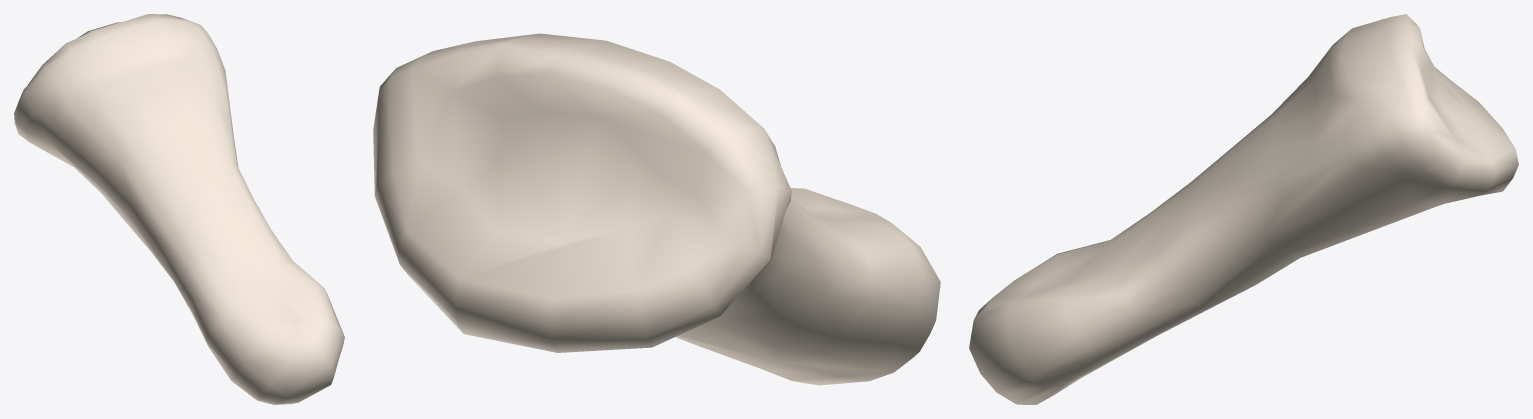
Rendered from left_digit_3_distal.glb.
The picture shows the model from 3 angles, left to right: view 1: azimuth 30°, elevation 25°; view 2: azimuth 150°, elevation 25°; view 3: azimuth 270°, elevation 25°; orthographic projection. The views are drawn at different scales.
Visible parts, largest first — view 1: Distal phalanx of 3d finger.r; view 2: Distal phalanx of 3d finger.r; view 3: Distal phalanx of 3d finger.r.
Part boxes in pixels (<box>): Distal phalanx of 3d finger.r: <box>14,14,344,404</box>; Distal phalanx of 3d finger.r: <box>373,33,940,385</box>; Distal phalanx of 3d finger.r: <box>969,14,1518,404</box>.
Bounding box in the file's own units: 0.00707 × 0.00954 × 0.0137.
